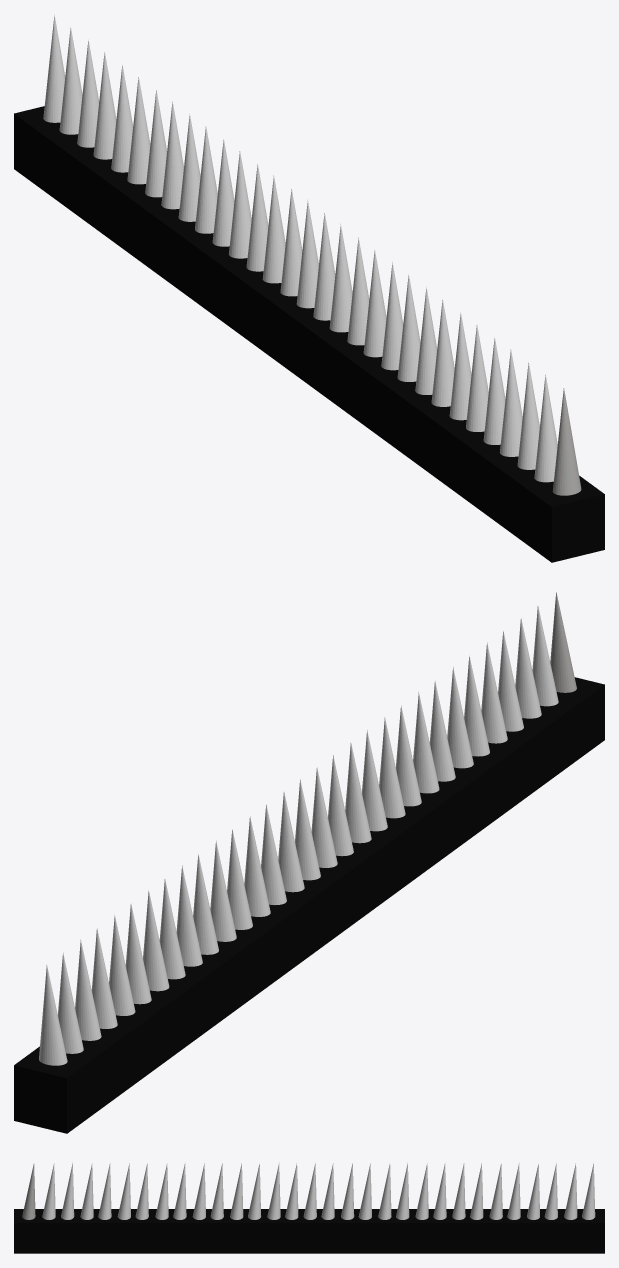
The picture shows the model from 3 angles, top to bottom: view 1: azimuth 30°, elevation 25°; view 2: azimuth 150°, elevation 25°; view 3: azimuth 270°, elevation 25°; orthographic projection. The views are drawn at different scales.
Visible parts, largest first — view 1: Cube, Cone.027, Cone.025, Cone.021, Cone.009, Cone.017, Cone.018, Cone.001, Cone.002, Cone.006, Cone.013, Cone.014 (+20 smaller); view 2: Cube, Cone, Cone.027, Cone.031, Cone.012, Cone.020, Cone.028, Cone.024, Cone.003, Cone.023, Cone.011, Cone.019 (+20 smaller); view 3: Cube, Cone.005, Cone.020, Cone.027, Cone.013, Cone.015, Cone.016, Cone.028, Cone.001, Cone.007, Cone.017, Cone.025 (+20 smaller).
Boxes of the visible parts, x1=… form: Cube: x1=14, y1=106, x2=604, y2=562; Cone.027: x1=552, y1=388, x2=581, y2=495; Cone.025: x1=534, y1=374, x2=557, y2=482; Cone.021: x1=431, y1=299, x2=454, y2=406; Cone.009: x1=262, y1=175, x2=285, y2=283; Cone.017: x1=329, y1=224, x2=352, y2=332; Cone.018: x1=363, y1=249, x2=386, y2=357; Cone.001: x1=59, y1=27, x2=82, y2=134; Cone.002: x1=93, y1=52, x2=116, y2=159; Cone.006: x1=127, y1=77, x2=150, y2=184; Cone.013: x1=228, y1=151, x2=251, y2=258; Cone.014: x1=195, y1=126, x2=217, y2=233; Cube: x1=14, y1=677, x2=604, y2=1133; Cone: x1=39, y1=965, x2=67, y2=1065; Cone.027: x1=550, y1=592, x2=576, y2=692; Cone.031: x1=447, y1=667, x2=473, y2=768; Cone.012: x1=210, y1=840, x2=236, y2=941; Cone.020: x1=413, y1=692, x2=439, y2=793; Cone.028: x1=481, y1=642, x2=507, y2=743; Cone.024: x1=515, y1=618, x2=541, y2=718; Cone.003: x1=75, y1=939, x2=101, y2=1040; Cone.023: x1=379, y1=717, x2=405, y2=818; Cone.011: x1=278, y1=791, x2=304, y2=892; Cone.019: x1=345, y1=743, x2=371, y2=843; Cube: x1=14, y1=1209, x2=604, y2=1253; Cone.005: x1=452, y1=1163, x2=465, y2=1219; Cone.020: x1=173, y1=1162, x2=186, y2=1219; Cone.027: x1=22, y1=1164, x2=35, y2=1219; Cone.013: x1=378, y1=1164, x2=391, y2=1219; Cone.015: x1=433, y1=1163, x2=446, y2=1219; Cone.016: x1=285, y1=1163, x2=298, y2=1219; Cone.028: x1=98, y1=1163, x2=111, y2=1219; Cone.001: x1=564, y1=1163, x2=577, y2=1219; Cone.007: x1=507, y1=1163, x2=520, y2=1219; Cone.017: x1=267, y1=1163, x2=280, y2=1219; Cone.025: x1=42, y1=1163, x2=55, y2=1219.
Size of the model in its own units: 80.46 by 224 by 1411.
3 materials, 2 textured.
